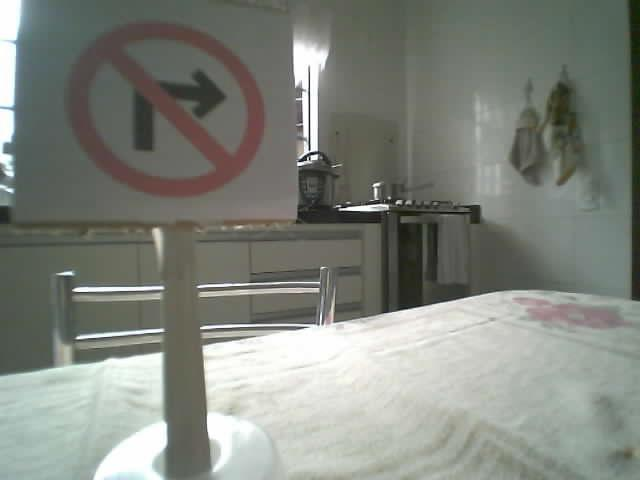R-4b_proibido-direita: (65, 22, 262, 196)
